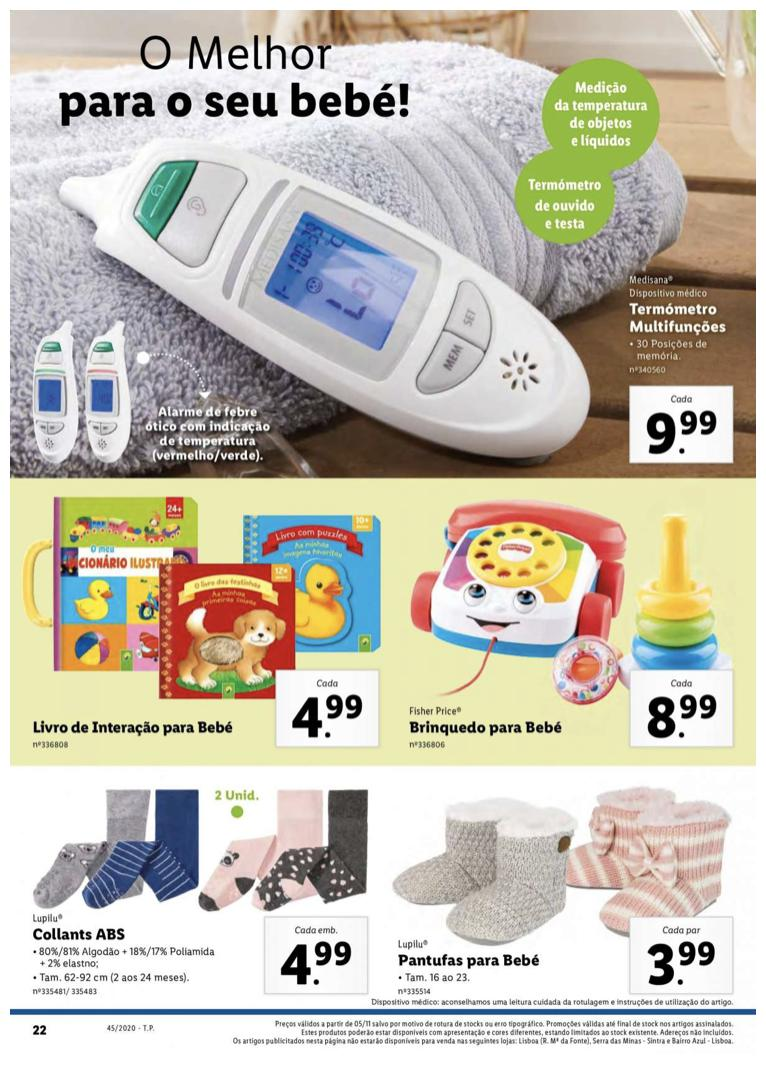name: (30, 717, 239, 737), (626, 301, 730, 337), (405, 716, 567, 739), (393, 950, 545, 971), (29, 924, 129, 945)
price: (277, 939, 356, 991), (643, 692, 720, 745), (643, 407, 720, 459), (289, 692, 366, 741), (647, 939, 718, 989)
product: (16, 122, 754, 474), (20, 492, 397, 759), (371, 774, 746, 1016), (402, 493, 746, 750), (20, 782, 371, 1016)
